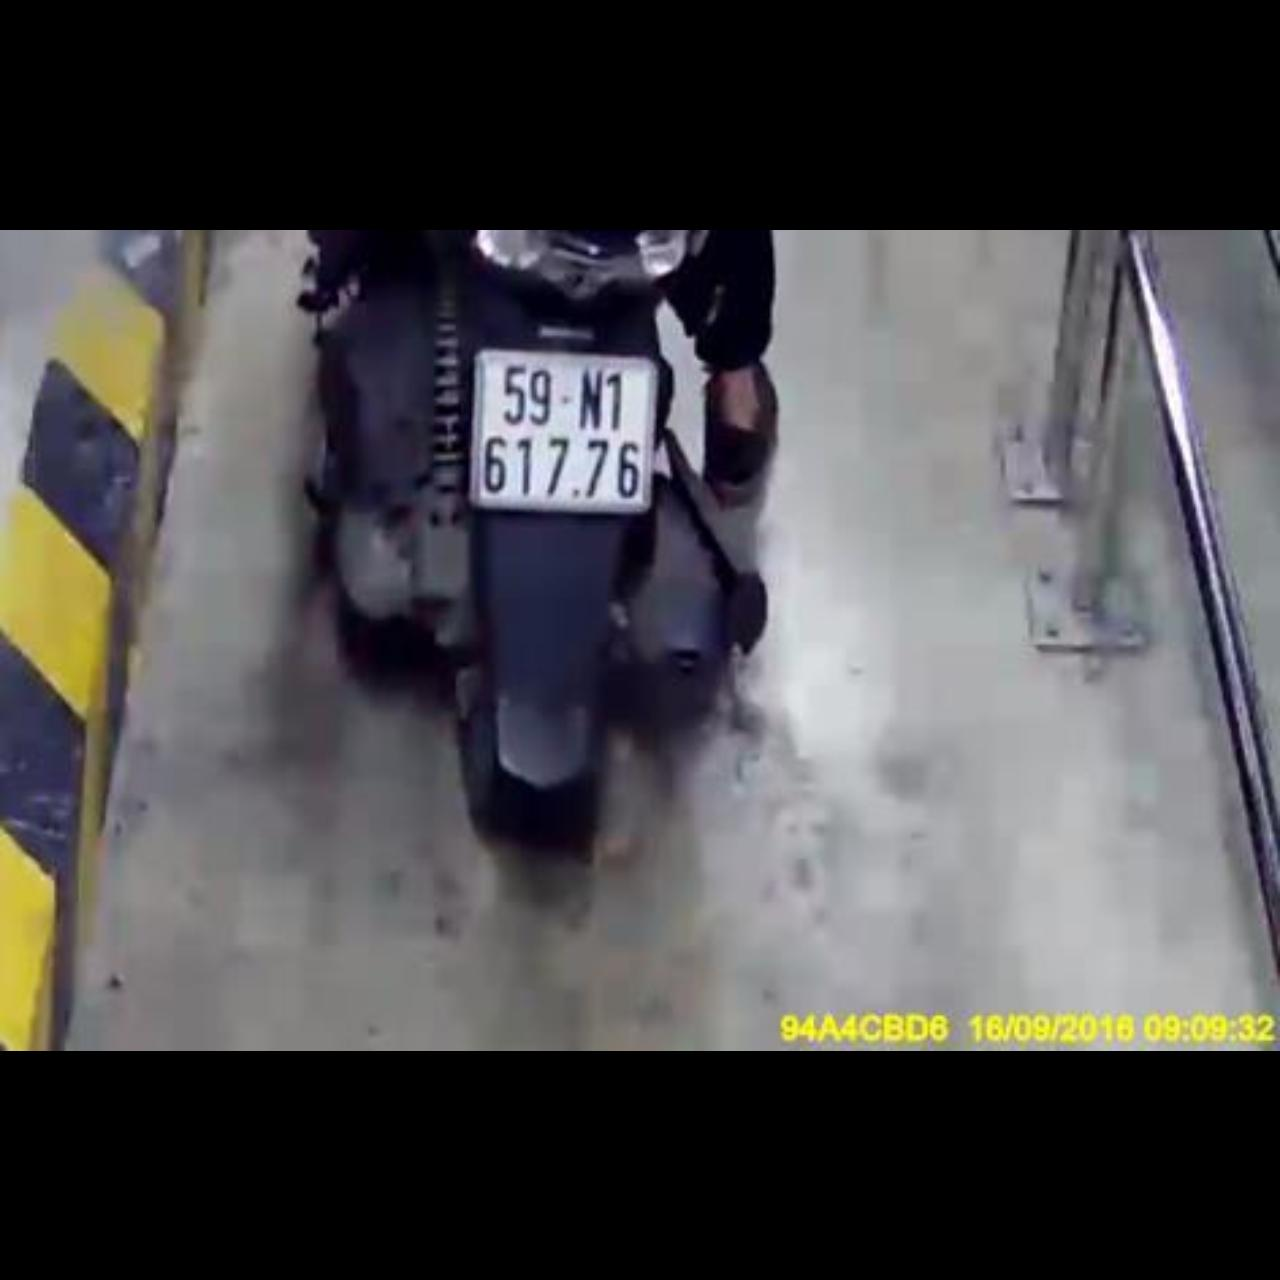bienso: (470, 341, 658, 514)
